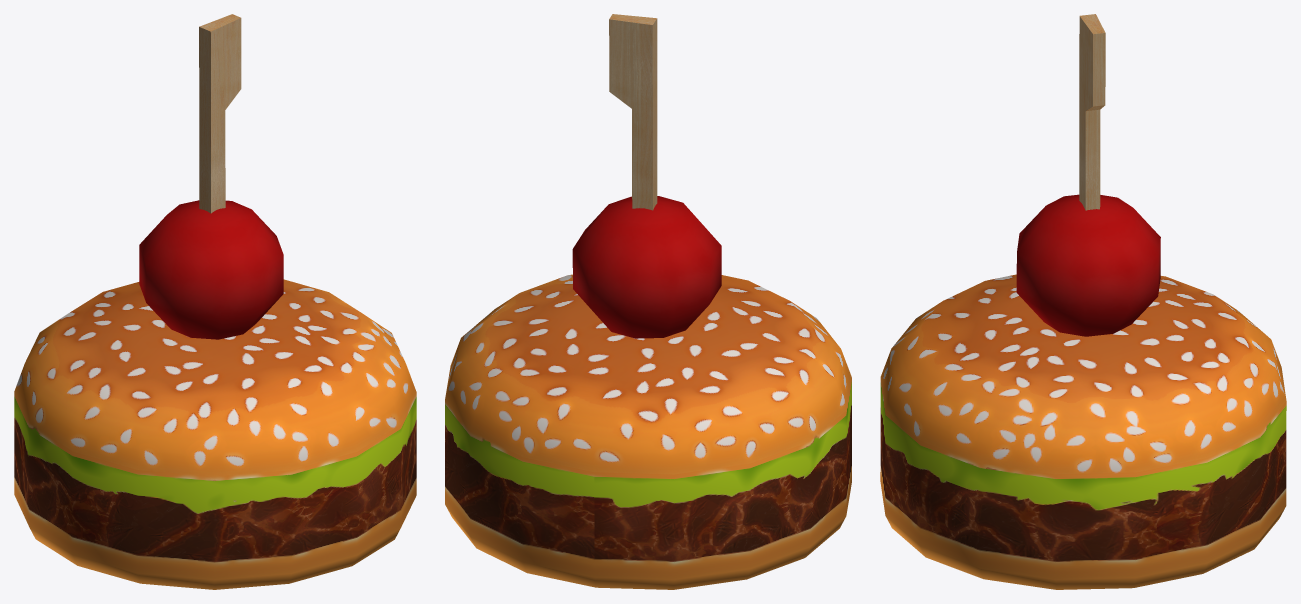
File: BuffetSnacks01_5.FBX
The picture shows the model from 3 angles, left to right: view 1: azimuth 30°, elevation 25°; view 2: azimuth 150°, elevation 25°; view 3: azimuth 270°, elevation 25°; orthographic projection.
Visible parts, largest first — view 1: BuffetSnacks01_5; view 2: BuffetSnacks01_5; view 3: BuffetSnacks01_5.
Boxes of the visible parts, x1,y1,x2,y2 form: BuffetSnacks01_5: (14, 14, 416, 589); BuffetSnacks01_5: (445, 14, 851, 589); BuffetSnacks01_5: (880, 14, 1286, 589).
Size of what is drawn, in the model's own units: 0.1255 by 0.1681 by 0.1255.
